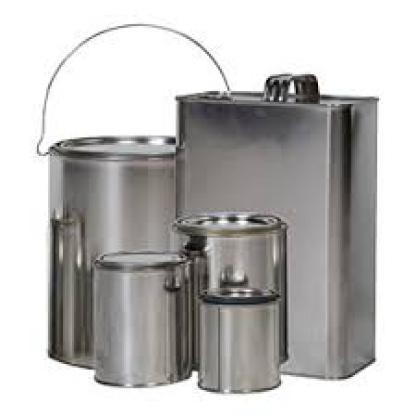Compsot: (176, 73, 377, 375), (50, 134, 174, 371), (172, 210, 288, 375), (92, 249, 188, 381), (194, 284, 279, 390)
